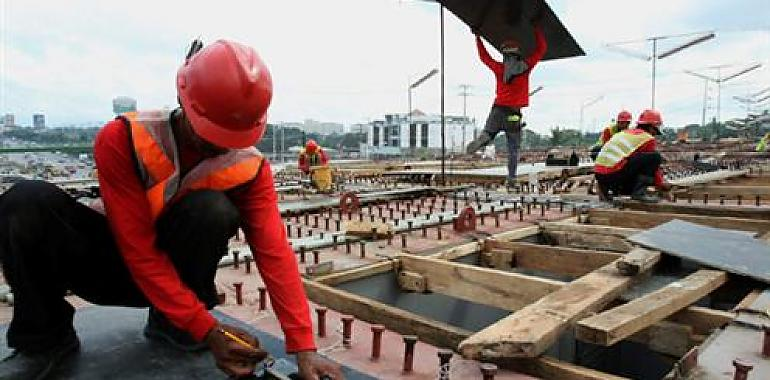person: (86, 40, 285, 305)
